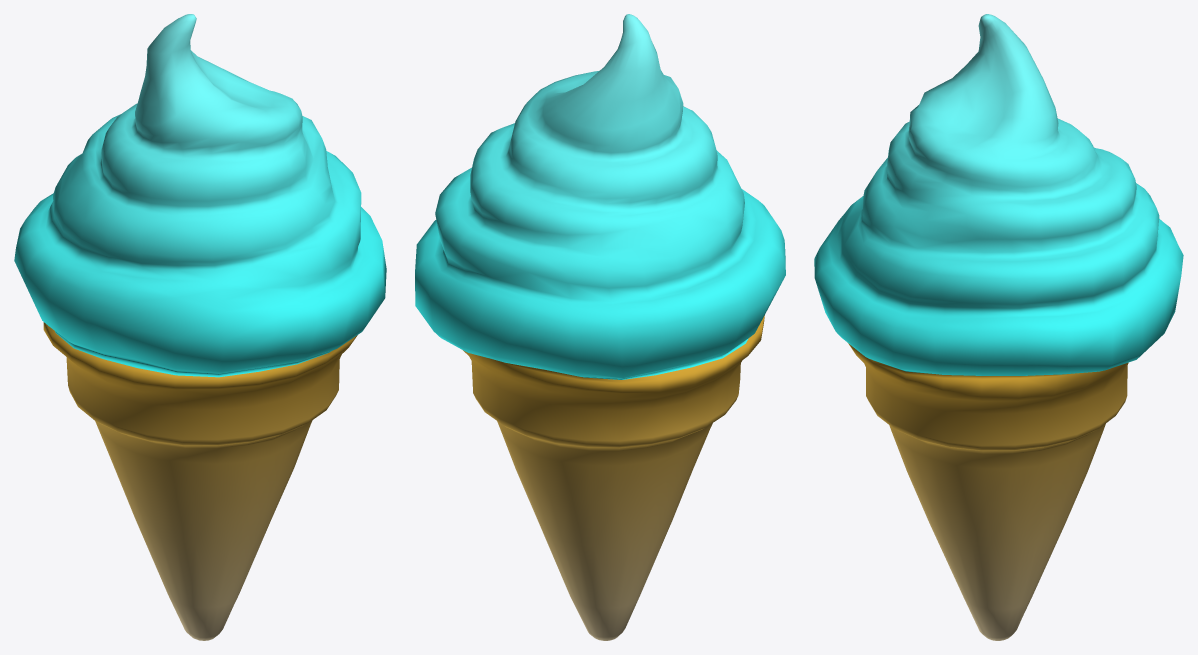
File: IceCream_0001_0003.fbx
3 renders of one model, left to right at view 1: azimuth 30°, elevation 25°; view 2: azimuth 150°, elevation 25°; view 3: azimuth 270°, elevation 25°, orthographic. The views are drawn at different scales.
Parts seen in each view (by area): view 1: Ice_0001_0003; view 2: Ice_0001_0003; view 3: Ice_0001_0003.
Boxes of the visible parts, bbox=[...] form: Ice_0001_0003: bbox=[14, 14, 386, 640]; Ice_0001_0003: bbox=[415, 14, 785, 640]; Ice_0001_0003: bbox=[814, 14, 1183, 640].
Bounding box in the file's own units: 0.0883 × 0.1652 × 0.0899.
Materials: 1 (1 with a texture image).
